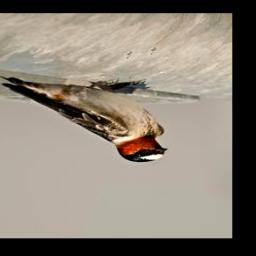Swallow: (0, 77, 170, 165)
